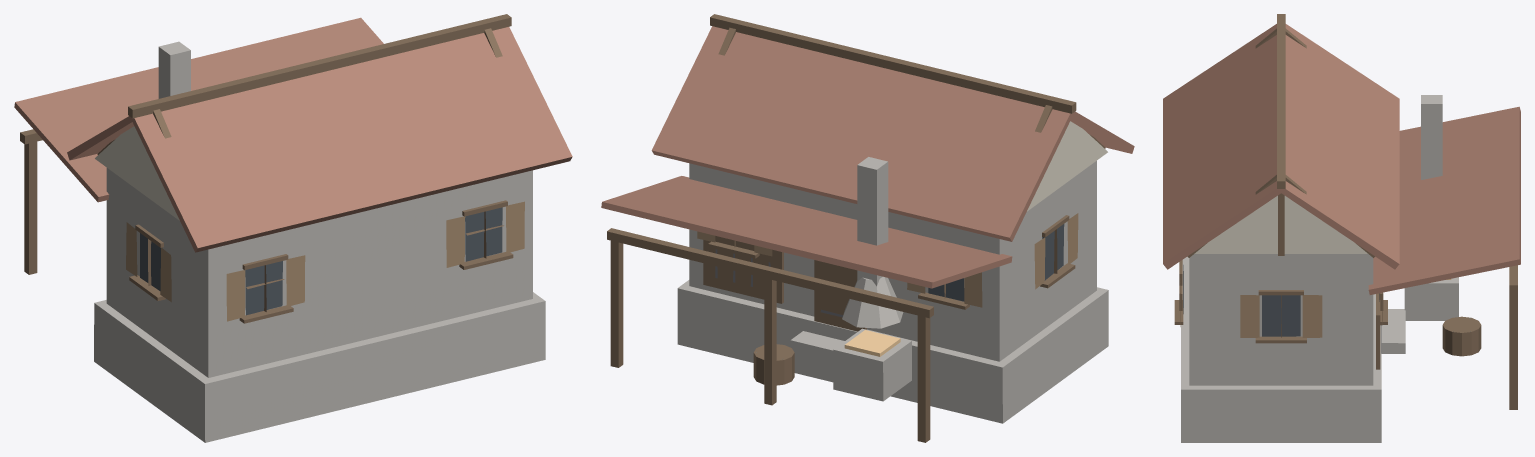
File: smithy_lod1.glb
3 views of the same model, side by side, from view 1: azimuth 30°, elevation 25°; view 2: azimuth 150°, elevation 25°; view 3: azimuth 270°, elevation 25° (orthographic). The views are drawn at different scales.
Visible parts, largest first — view 1: smithy.001; view 2: smithy.001; view 3: smithy.001.
Boxes of the visible parts, <box> form: smithy.001: <box>14,14,572,442</box>; smithy.001: <box>601,14,1134,442</box>; smithy.001: <box>1163,14,1520,442</box>.
Size of the model in its own units: 9.2 by 6.93 by 8.32.
